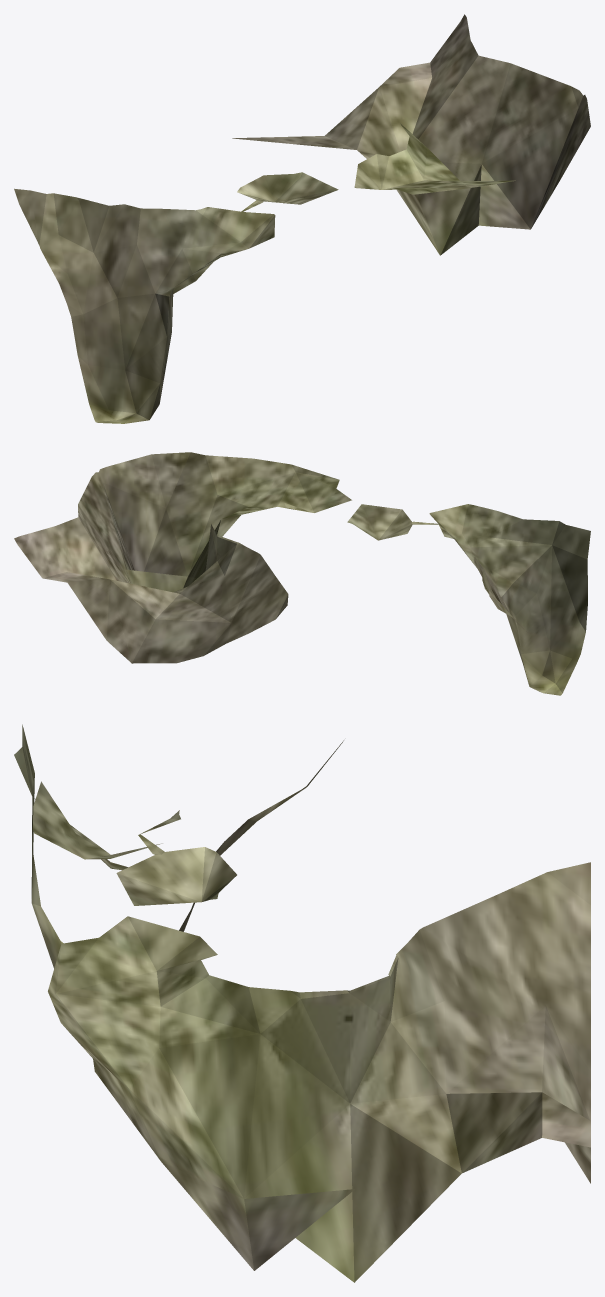
3 views of the same model, one above another, from view 1: azimuth 30°, elevation 25°; view 2: azimuth 150°, elevation 25°; view 3: azimuth 270°, elevation 25° (orthographic). The views are drawn at different scales.
Size of the model in its own units: 2.95 by 0.9464 by 1.83.
2 materials, 2 textured.
